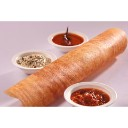dosa: (3, 30, 127, 103)
